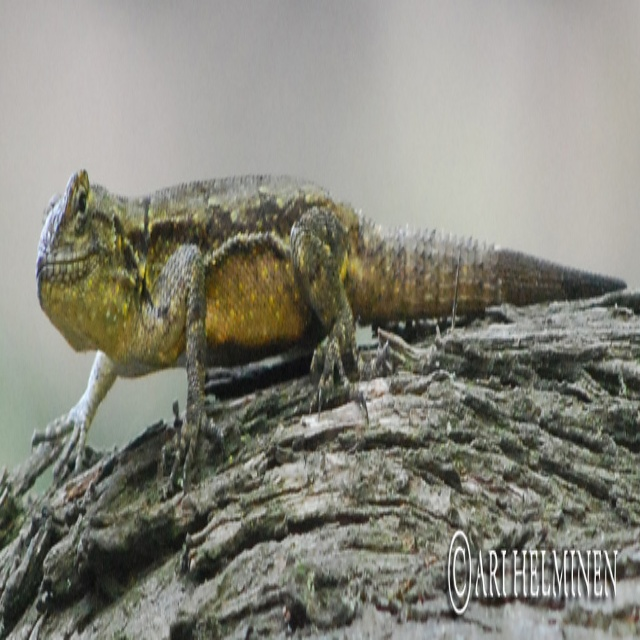Lizard: (38, 177, 626, 486)
